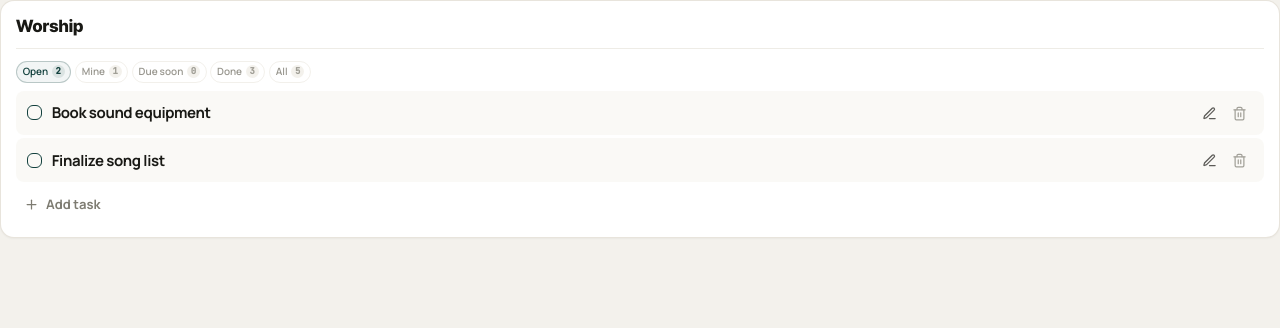
Test: ProjectTaskPane › keeps the compose fields hidden until Add task is clicked
Expected: the field with placeholder "Add task to Worship" is not shown
Click the button "Add task" at (73, 204), box [16,188,1264,222]
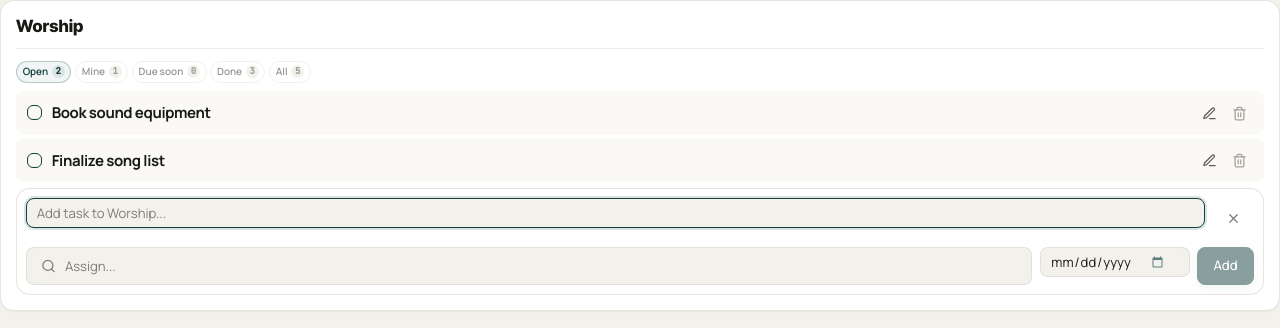
Now the field with placeholder "Add task to Worship..." is shown, box [26,198,1205,228]
